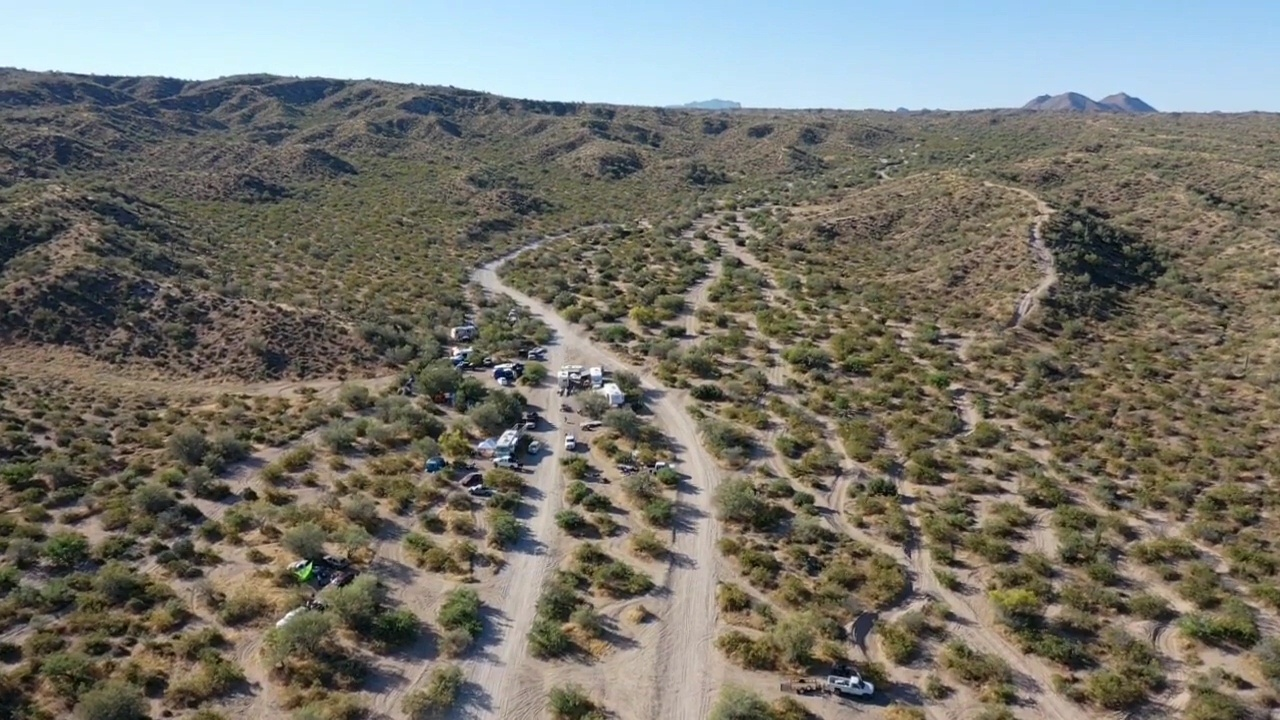araba: (492, 451, 521, 471), (526, 436, 544, 457), (562, 432, 578, 449)
kamyonet: (823, 670, 877, 701)
